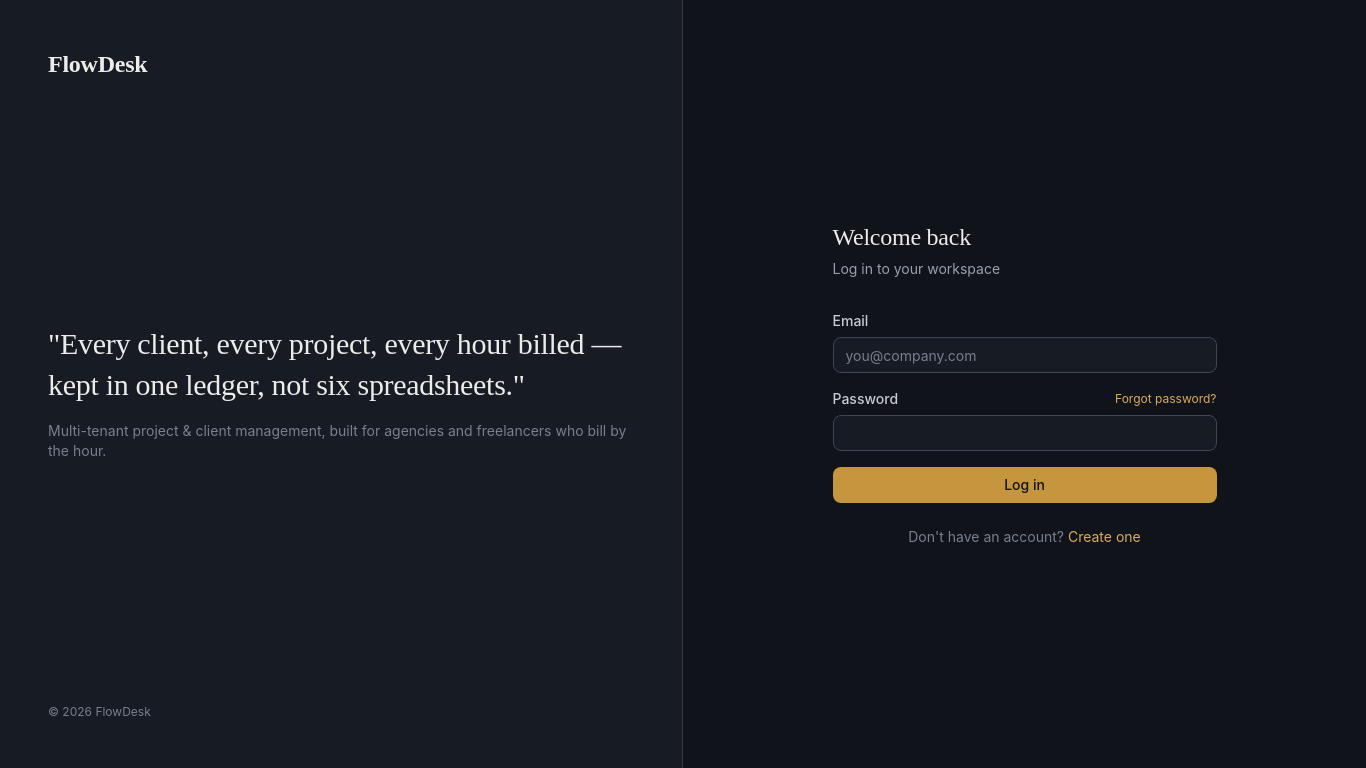
LoginPage › shows the server's error message on invalid credentials
Type "wrong@example.com" into the field labelled "Email" at (1024, 355), box [832, 337, 1216, 373]
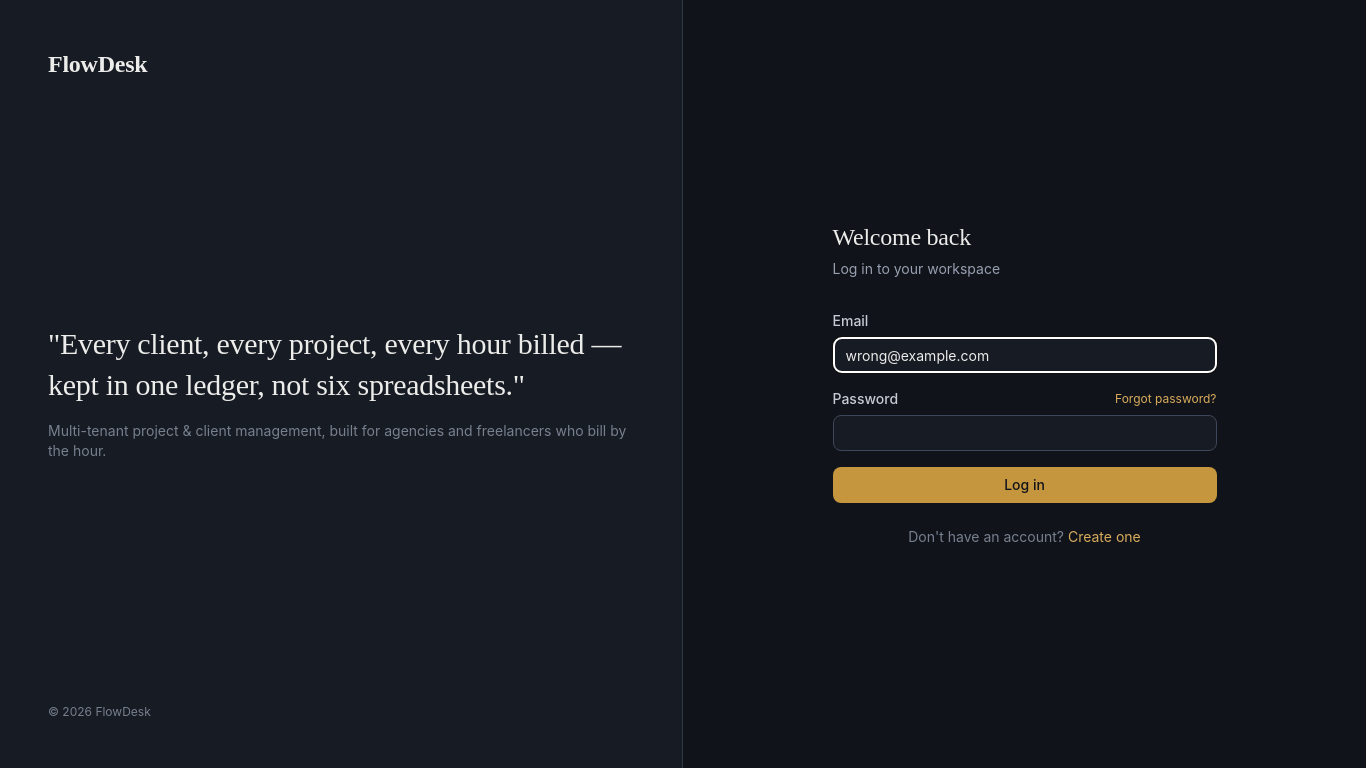
Type "wrongpassword" into the password field labelled "Password" at (1024, 433), box [832, 415, 1216, 451]
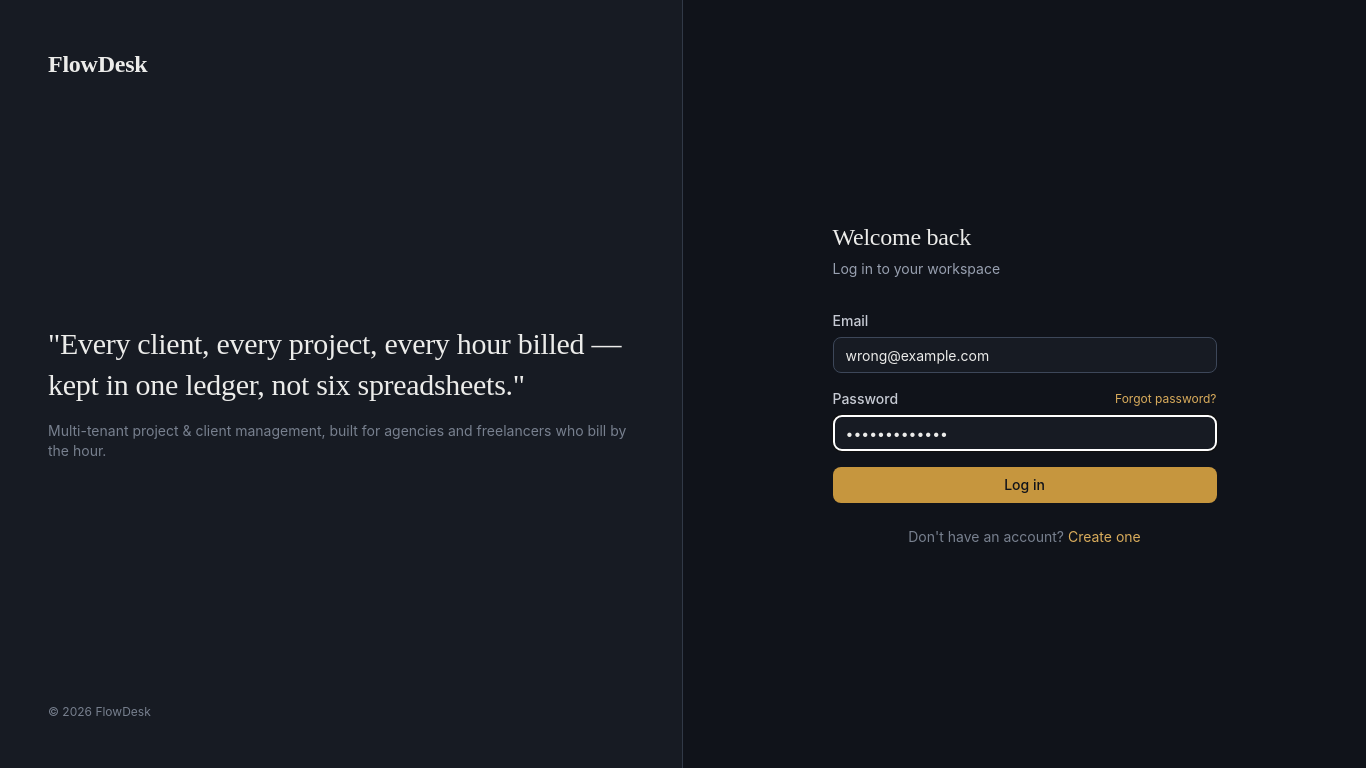
Click the button "Log in" at (1024, 485), box [832, 467, 1216, 503]
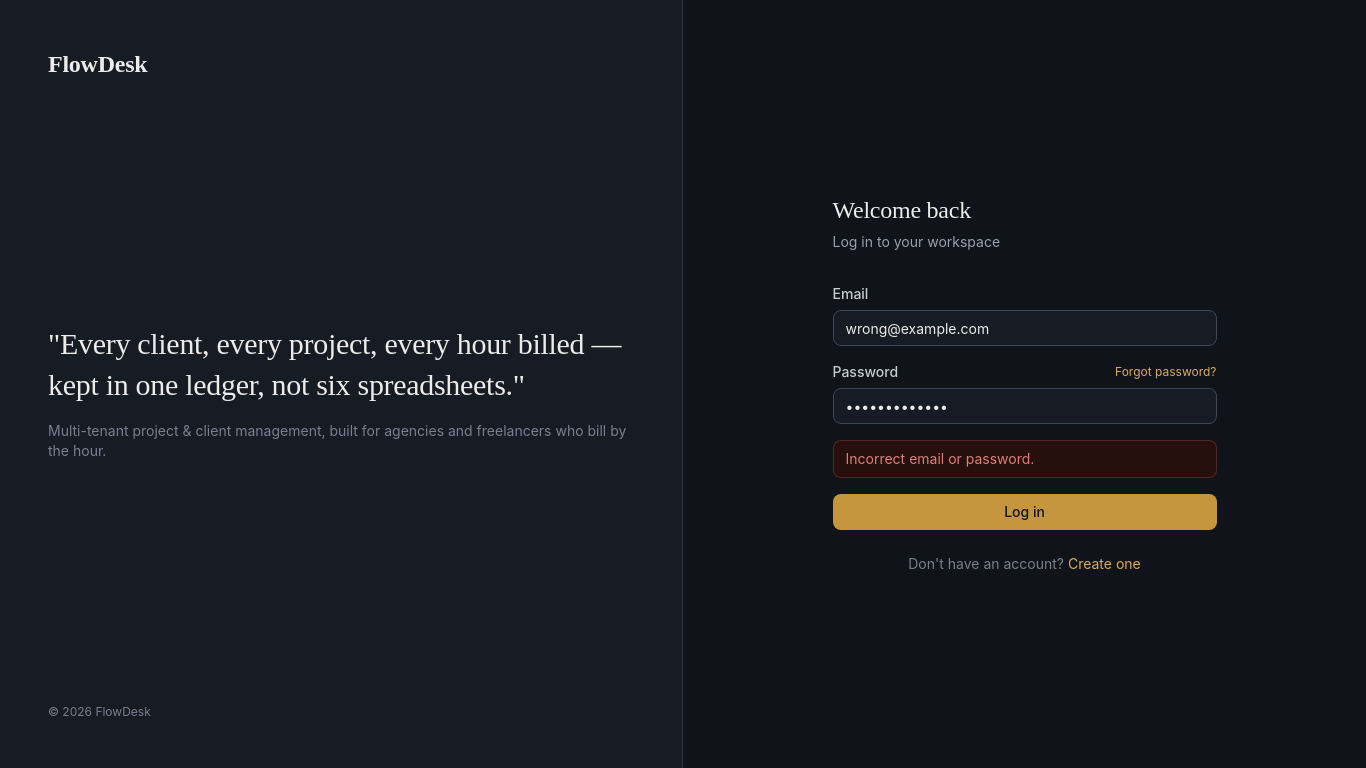
Expected: the text "Incorrect email or password." is shown, [832, 440, 1216, 478]
